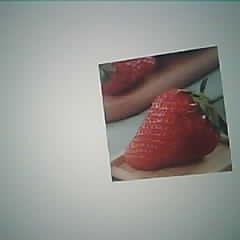straw-ripe: (127, 89, 218, 167)
